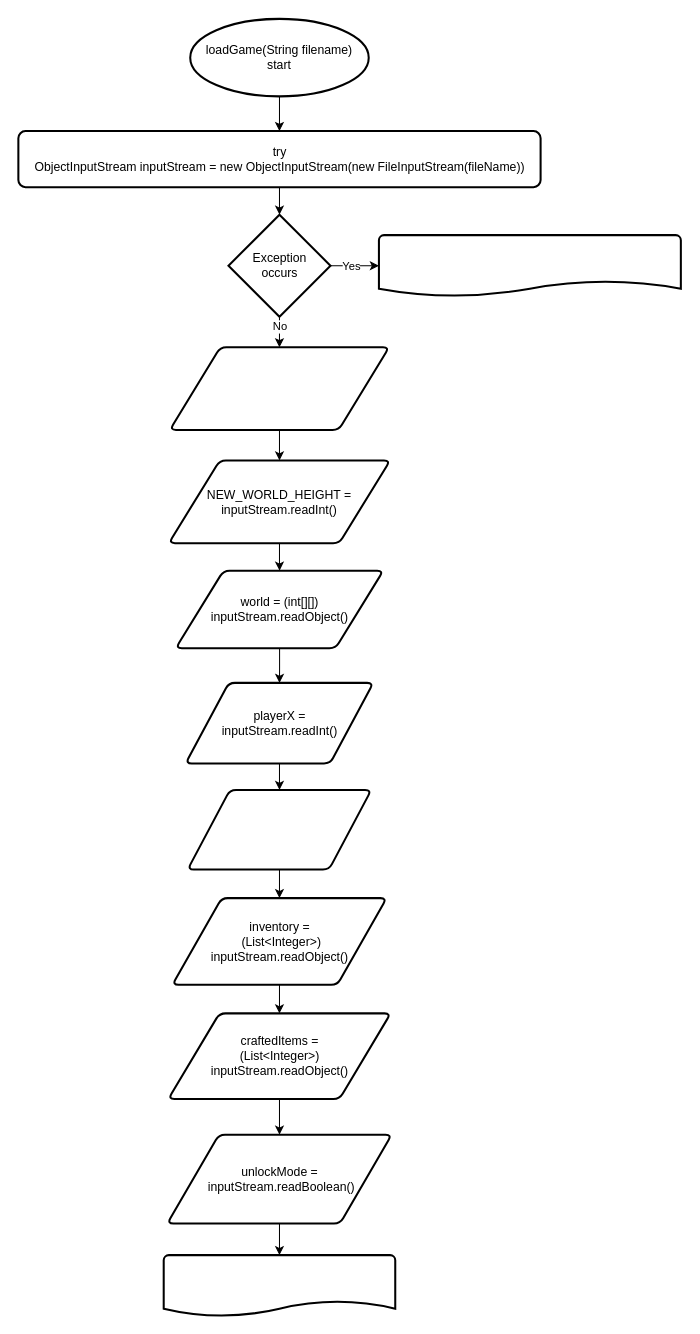
This 700x1334 diagram has some shape labels left out. The shapes that lost their labels are listed below. From the top down, each one's box as (x1, y1, x2, y2) in pixels, then its label:
(377, 234, 681, 297): print "Error while loading the game state: " + e.getMessage()
(168, 346, 390, 430): NEW_WORLD_WIDTH = inputStream.readInt()
(186, 788, 372, 870): playerY = inputStream.readInt()
(162, 1254, 396, 1317): print "Game state loaded from file: " + fileName
